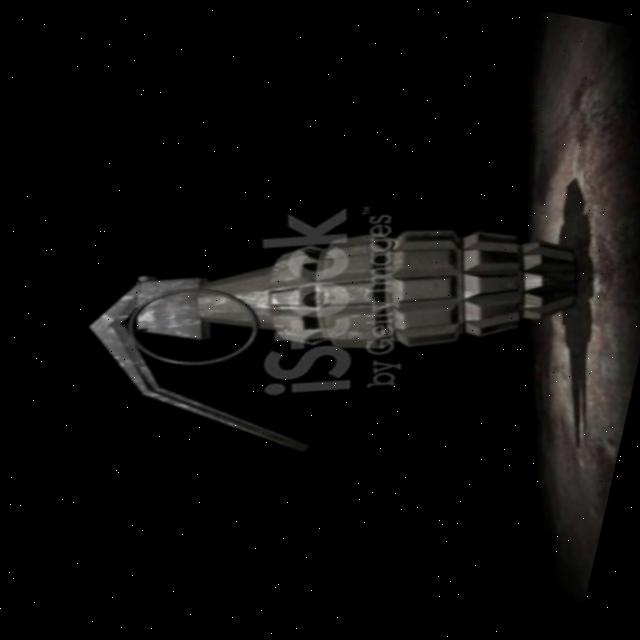grenade: (25, 106, 630, 582)
